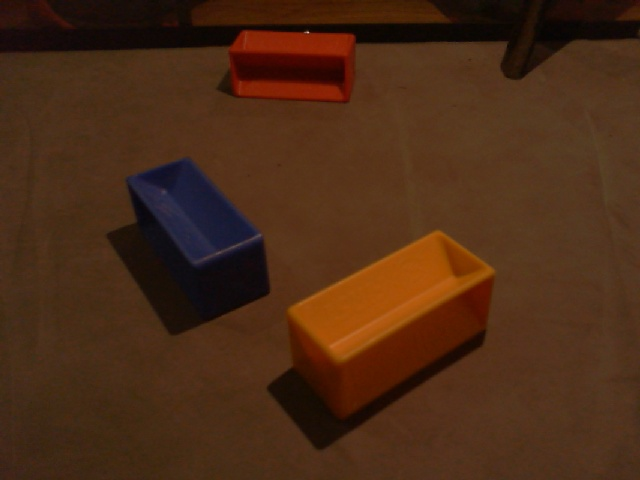BlueSample: (124, 153, 270, 320)
RedSample: (226, 26, 356, 106)
YellowSample: (284, 222, 496, 425)
